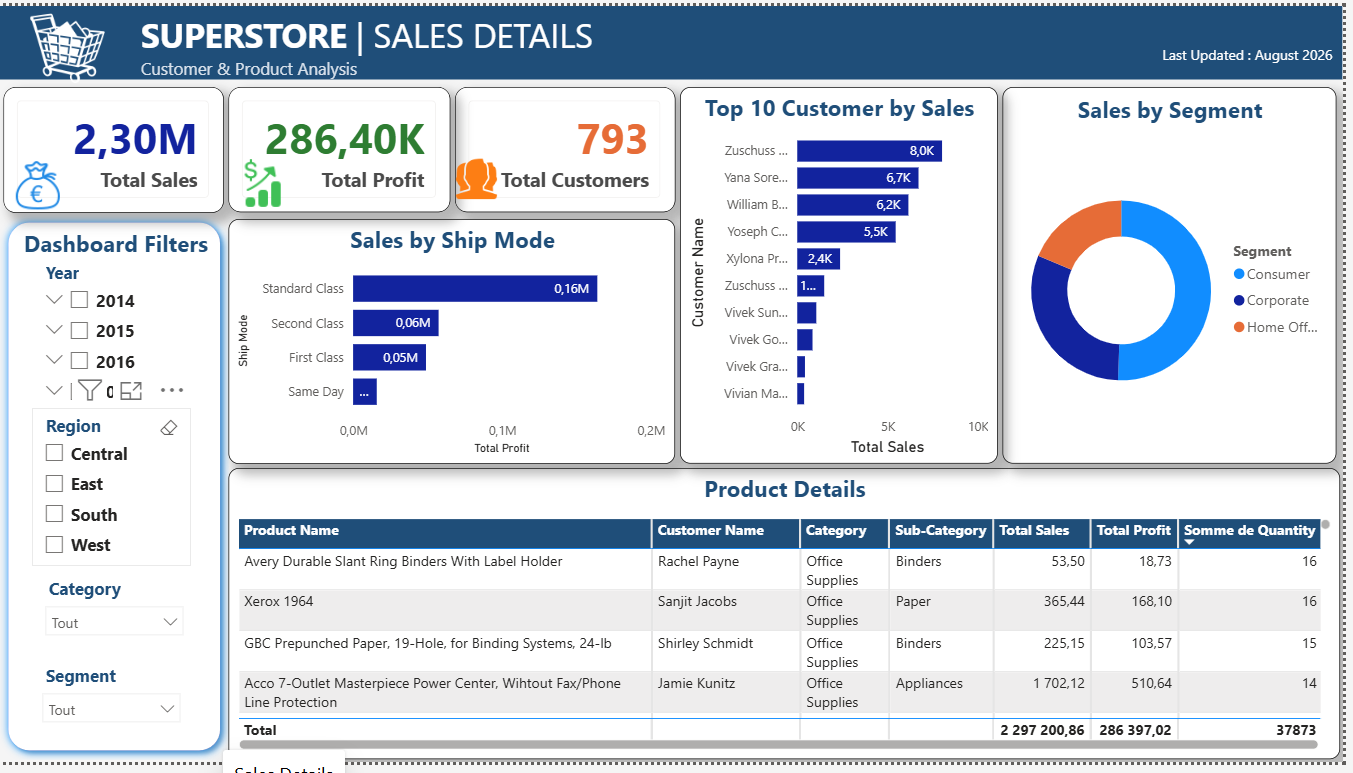

The page's visual inventory and layout, read from the dashboard file:
{"tool":"powerbi","page":{"name":"Sales Details","canvas":[1280,720],"ordinal":1},"visuals":[{"type":"shape","box":[0,196.8,219.6,520.9],"z":0},{"type":"shape","box":[0,0,1279.5,70],"z":1000},{"type":"cardVisual","fields":{"Data":["Sample - Superstore.Total Sales"]},"box":[4.5,76.9,210,120],"z":2000},{"type":"textbox","box":[130.4,0,534.8,92.6],"z":3000},{"type":"textbox","box":[1102.3,31.8,174.1,37.9],"z":4000},{"type":"cardVisual","fields":{"Data":["Sample - Superstore.Total Customers"]},"box":[434.5,76.9,209.8,119.1],"z":5000},{"type":"slicer","fields":{"Values":["Sample - Superstore.Order Date.Variation.Hiérarchie de dates.Année","Sample - Superstore.Order Date.Variation.Hiérarchie de dates.Trimestre","Sample - Superstore.Order Date.Variation.Hiérarchie de dates.Mois","Sample - Superstore.Order Date.Variation.Hiérarchie de dates.Jour"]},"box":[31.8,237.7,151.4,149.9],"z":6000},{"type":"tableEx","title":"Product Details","fields":{"Values":["Sample - Superstore.Product Name","Sample - Superstore.Customer Name","Sample - Superstore.Category","Sample - Superstore.Sub-Category","Sample - Superstore.Total Sales","Sample - Superstore.Total Profit","Sum(Sample - Superstore.Quantity)"]},"box":[218,440.6,1058.4,277.1],"z":7000},{"type":"textbox","box":[9.1,205.9,205.9,43.9],"z":8000},{"type":"slicer","fields":{"Values":["Sample - Superstore.Region"]},"box":[31.8,383.1,151.4,149.9],"z":9000},{"type":"slicer","fields":{"Values":["Sample - Superstore.Category"]},"box":[34.8,539.1,151.4,72.7],"z":10000},{"type":"slicer","fields":{"Values":["Sample - Superstore.Segment"]},"box":[31.8,620.8,151.4,72.7],"z":11000},{"type":"donutChart","title":"Sales by Segment","fields":{"Category":["Sample - Superstore.Segment"],"Y":["Sample - Superstore.Total Sales"]},"box":[955.5,76.9,318,358.9],"z":12000},{"type":"clusteredBarChart","title":"Sales by Ship Mode","fields":{"Category":["Sample - Superstore.Ship Mode"],"Y":["Sample - Superstore.Total Profit"]},"box":[218,202.9,425.5,233.2],"z":13000},{"type":"clusteredBarChart","title":"Top 10 Customer by Sales","fields":{"Category":["Sample - Superstore.Customer Name"],"Y":["Sample - Superstore.Total Sales"]},"box":[648.5,76.9,302.8,358.9],"z":14000},{"type":"cardVisual","fields":{"Data":["Sample - Superstore.Total Profit"]},"box":[218.7,76.9,211.7,119.1],"z":15000},{"type":"image","box":[0,0,130.2,77.2],"z":16000},{"type":"image","box":[431.5,136.3,46.9,59.1],"z":17000},{"type":"image","box":[10.6,145.4,54.5,50],"z":18000},{"type":"image","box":[221.1,145.4,59.1,48.5],"z":19500}]}

Visuals, with their boxes in screenshot pixels (x1, y1, x2, y2), scaled from the page's 1280x720 canvas onto the 1353x773 screenshot:
shape: (0,211,232,771)
shape: (0,0,1352,75)
cardVisual - Sample - Superstore.Total Sales: (5,83,227,211)
textbox: (138,0,703,99)
textbox: (1165,34,1349,75)
cardVisual - Sample - Superstore.Total Customers: (459,83,681,210)
slicer - Sample - Superstore.Order Date.Variation.Hiérarchie de dates.Année x Sample - Superstore.Order Date.Variation.Hiérarchie de dates.Trimestre: (34,255,194,416)
"Product Details" tableEx: (230,473,1349,771)
textbox: (10,221,227,268)
slicer - Sample - Superstore.Region: (34,411,194,572)
slicer - Sample - Superstore.Category: (37,579,197,657)
slicer - Sample - Superstore.Segment: (34,666,194,745)
"Sales by Segment" donutChart: (1010,83,1346,468)
"Sales by Ship Mode" clusteredBarChart: (230,218,680,468)
"Top 10 Customer by Sales" clusteredBarChart: (685,83,1006,468)
cardVisual - Sample - Superstore.Total Profit: (231,83,455,210)
image: (0,0,138,83)
image: (456,146,506,210)
image: (11,156,69,210)
image: (234,156,296,208)
